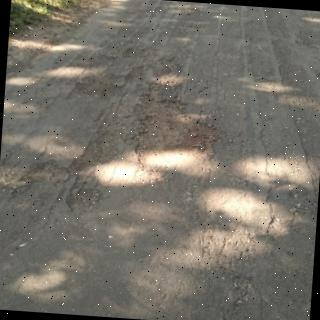pothole: (64, 46, 227, 212)
